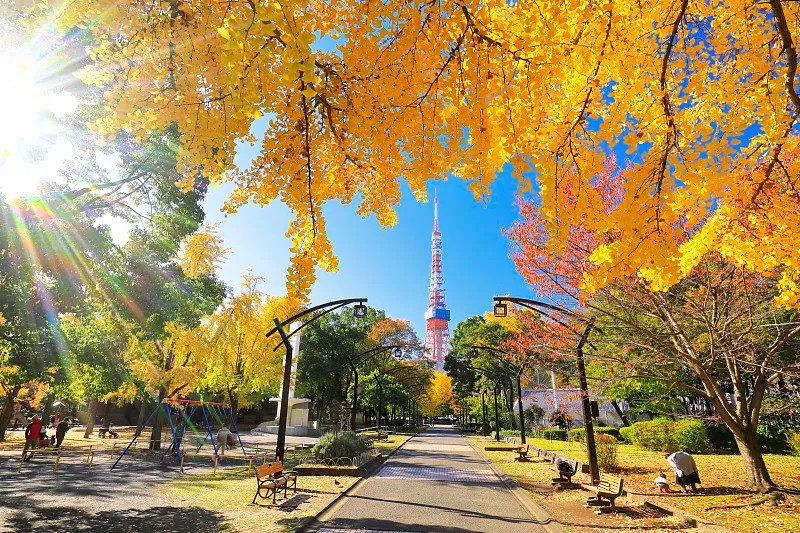Tokyo: (422, 183, 452, 362)
